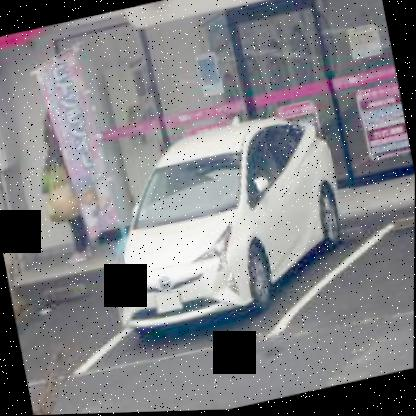not_emergency: (81, 102, 373, 348)
